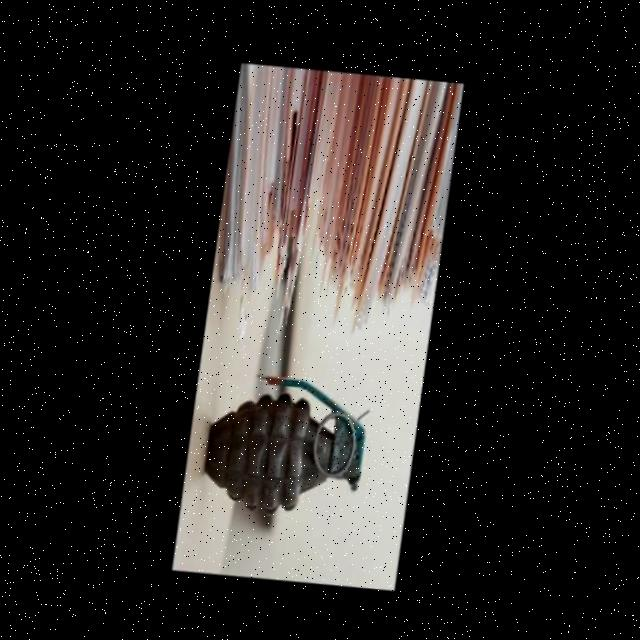grenade: (178, 332, 391, 537)
